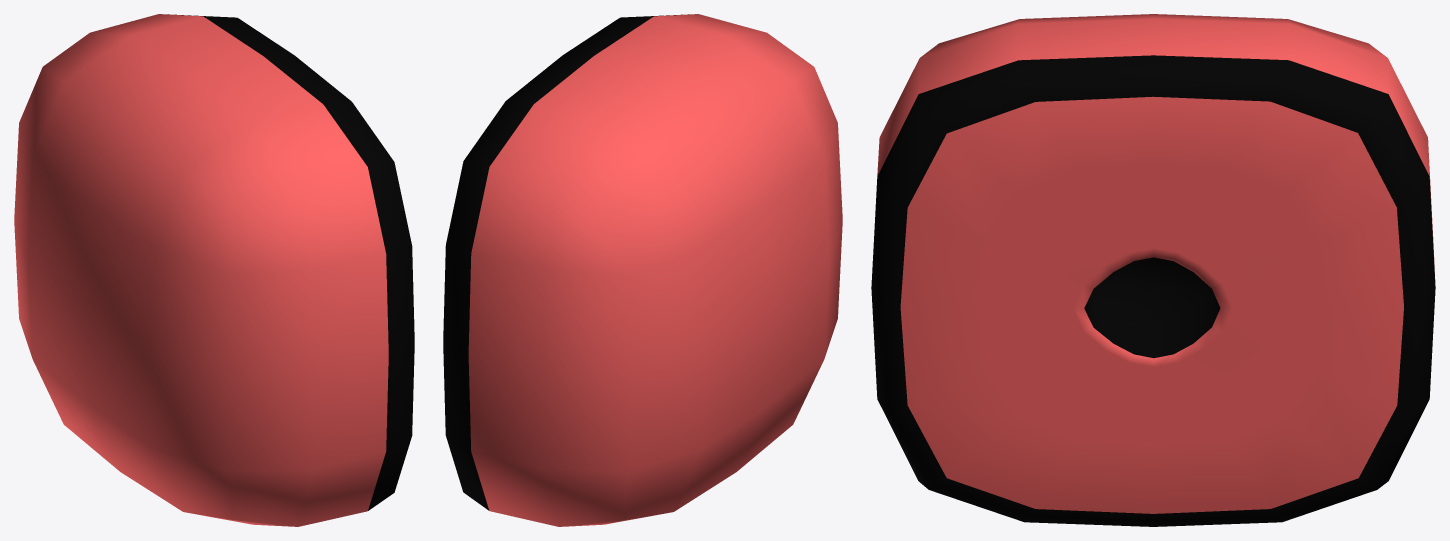
File: kuukihou_body.fbx
3 views of the same model, side by side, from view 1: azimuth 30°, elevation 25°; view 2: azimuth 150°, elevation 25°; view 3: azimuth 270°, elevation 25° (orthographic). The views are drawn at different scales.
Parts seen in each view (by area): view 1: 球.004; view 2: 球.004; view 3: 球.004.
Part boxes in pixels (left/top/right/bottom): 球.004: left=14, top=14, right=414, bottom=526; 球.004: left=443, top=14, right=842, bottom=526; 球.004: left=871, top=14, right=1435, bottom=526.
Size of the model in its own units: 164 by 80.88 by 149.
